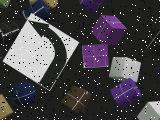Left: (2, 13, 80, 91)
